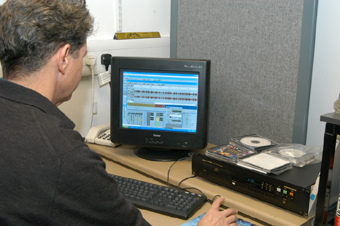person: (1, 1, 241, 226)
